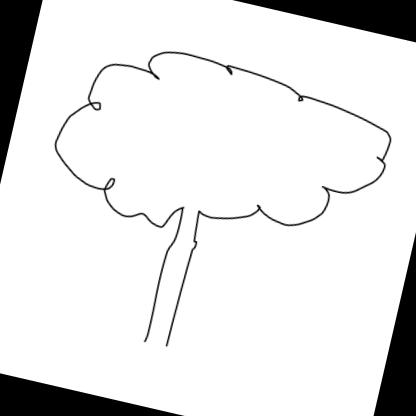crown_cloud: (40, 24, 406, 277)
trunk_straight: (139, 230, 212, 328)
